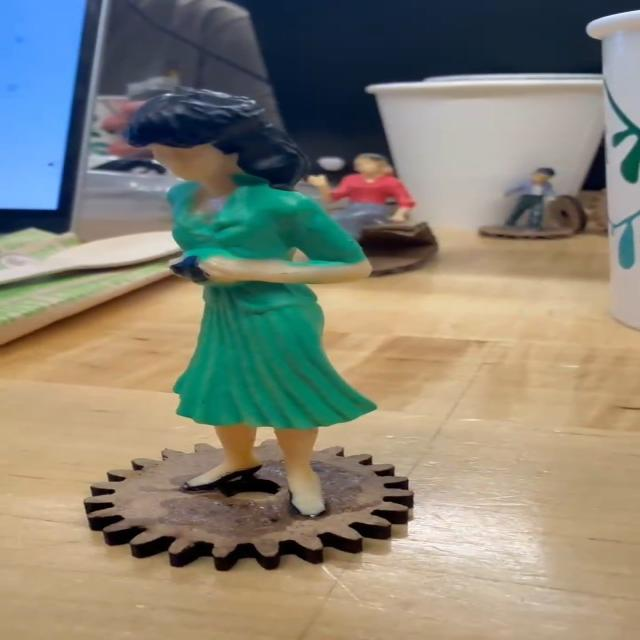Authorized: (64, 80, 410, 528)
